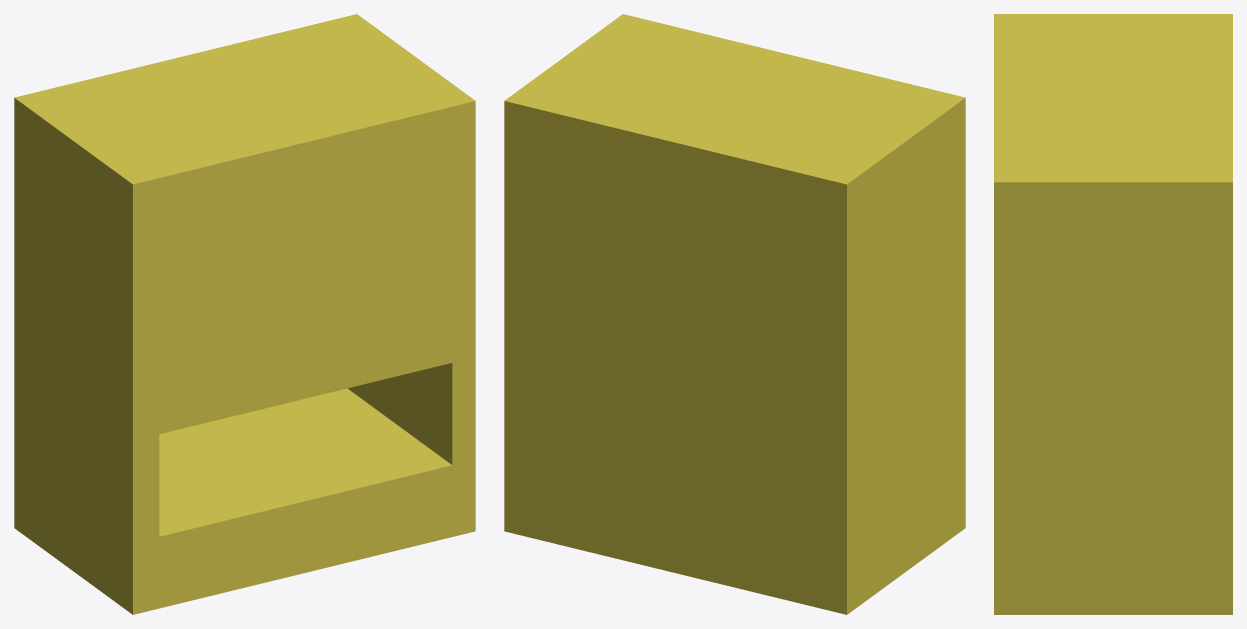
Rendered from Side table.glb.
The picture shows the model from 3 angles, left to right: view 1: azimuth 30°, elevation 25°; view 2: azimuth 150°, elevation 25°; view 3: azimuth 270°, elevation 25°; orthographic projection.
Parts seen in each view (by area): view 1: Mesh_Mesh_head_geo.001_lambert2SG.001; view 2: Mesh_Mesh_head_geo.001_lambert2SG.001; view 3: Mesh_Mesh_head_geo.001_lambert2SG.001.
Part boxes in pixels (x1,y1,x2,y2): Mesh_Mesh_head_geo.001_lambert2SG.001: (14,14,475,614); Mesh_Mesh_head_geo.001_lambert2SG.001: (504,14,965,614); Mesh_Mesh_head_geo.001_lambert2SG.001: (994,14,1232,614).
Bounding box in the file's own units: 125 × 150 × 75.
